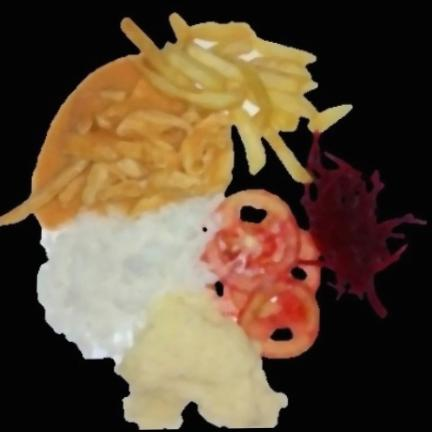beet: (302, 131, 426, 316)
chicken: (0, 51, 242, 228)
potato: (122, 14, 353, 182), (118, 292, 287, 430)
rice: (38, 195, 223, 361)
tomato: (203, 190, 321, 358)
